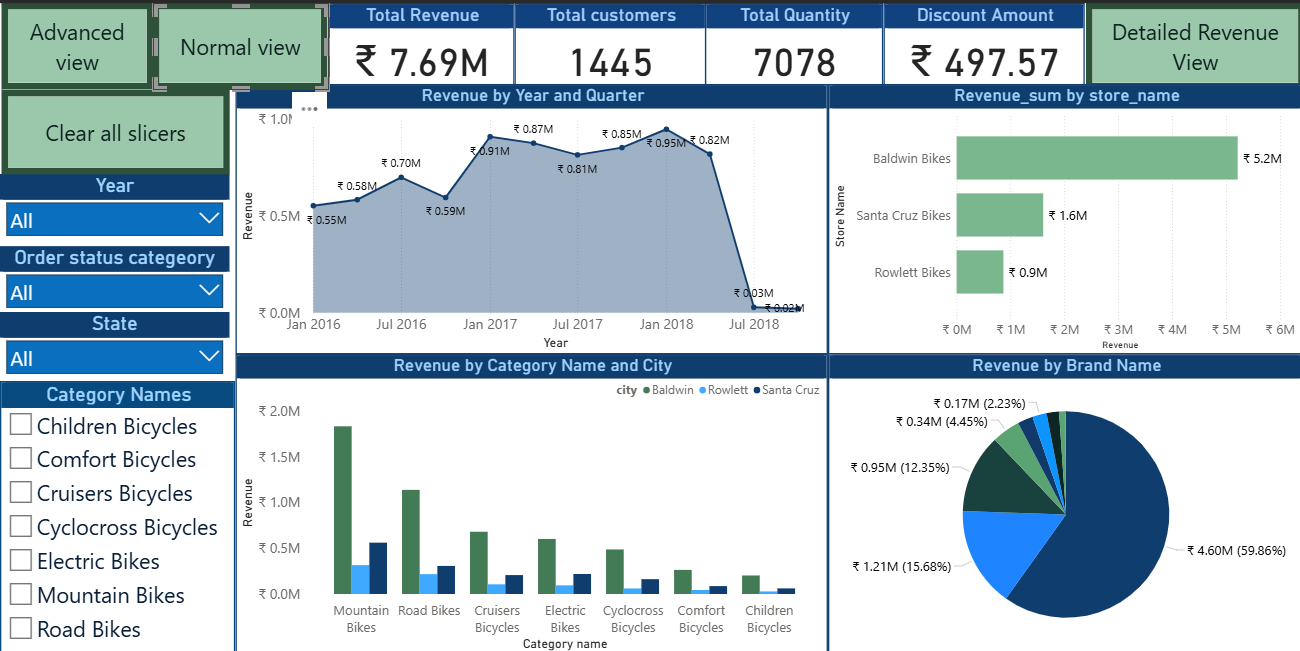

Layout of this report page (visuals, bound fields, positions):
{"tool":"powerbi","page":{"name":"Bike_Revenue_report","canvas":[2000,1000],"ordinal":0},"visuals":[{"type":"card","title":"Total Revenue","fields":{"Values":["Table.Revenue_sum"]},"box":[502.9,0,285.3,132.4],"z":0},{"type":"card","title":"Total customers","fields":{"Values":["Table.total_customers"]},"box":[788.2,0,294.1,132.4],"z":1000},{"type":"slicer","title":"Order status categeory","fields":{"Values":["orders.order_status_category"]},"box":[0,372.5,352.1,104.8],"z":2000},{"type":"slicer","title":"Year","fields":{"Values":["orders.order_date.Variation.Date Hierarchy.Year"]},"box":[0,261.9,352.1,110.6],"z":3000},{"type":"slicer","title":"State","fields":{"Values":["customers.state"]},"box":[0,474.3,352.1,104.8],"z":4000},{"type":"actionButton","box":[2.9,132.4,350,129.4],"z":5000},{"type":"slicer","title":"Category Names","fields":{"Values":["categories.category_name"]},"box":[0,579.1,360.8,421.9],"z":6000},{"type":"card","title":"Total Quantity","fields":{"Values":["Sum(order_items.quantity)"]},"box":[1082.4,0,273.5,132.4],"z":7000},{"type":"card","title":"Discount Amount","fields":{"Values":["Sum(order_items.discount)"]},"box":[1355.9,0,308.8,132.4],"z":8000},{"type":"actionButton","box":[1664.7,0,335.3,132.4],"z":9000},{"type":"actionButton","box":[2.9,0,232.4,132.4],"z":10000},{"type":"areaChart","title":"Revenue by Year and Quarter","fields":{"Category":["orders.order_date.Variation.Date Hierarchy.Year","orders.order_date.Variation.Date Hierarchy.Quarter"],"Y":["Table.Revenue_sum"]},"box":[361.8,123.5,908.8,414.7],"z":11000},{"type":"pieChart","title":"Revenue by Brand Name","fields":{"Category":["brands.brand_name"],"Y":["Table.Revenue_sum"]},"box":[1270.6,538.2,729.4,461.8],"z":12000},{"type":"clusteredColumnChart","title":"Revenue by Category Name and City","fields":{"Y":["Table.Revenue_sum"],"Category":["categories.category_name"],"Series":["stores.city"]},"box":[361.8,538.2,908.8,461.8],"z":13000},{"type":"barChart","fields":{"Category":["stores.store_name"],"Y":["Table.Revenue_sum"]},"box":[1270.6,123.5,729.4,414.7],"z":14000},{"type":"actionButton","box":[235.3,0,267.6,132.4],"z":18000}]}

Visuals, with their boxes in screenshot pixels (x1, y1, x2, y2), scaled from the page's 2000x1000 canvas onto the 1300x651 screenshot:
"Total Revenue" card: (327,0,512,86)
"Total customers" card: (512,0,703,86)
"Order status categeory" slicer: (0,242,229,311)
"Year" slicer: (0,170,229,242)
"State" slicer: (0,309,229,377)
actionButton: (2,86,229,170)
"Category Names" slicer: (0,377,235,650)
"Total Quantity" card: (704,0,881,86)
"Discount Amount" card: (881,0,1082,86)
actionButton: (1082,0,1299,86)
actionButton: (2,0,153,86)
"Revenue by Year and Quarter" areaChart: (235,80,826,350)
"Revenue by Brand Name" pieChart: (826,350,1299,650)
"Revenue by Category Name and City" clusteredColumnChart: (235,350,826,650)
barChart - stores.store_name x Table.Revenue_sum: (826,80,1299,350)
actionButton: (153,0,327,86)
